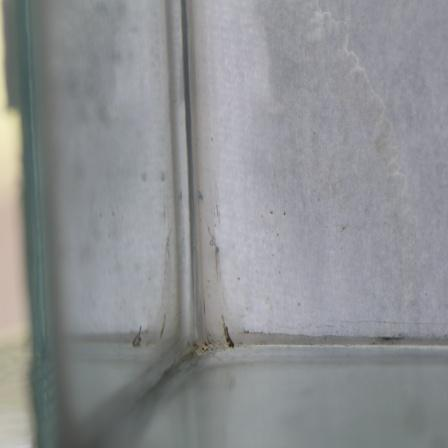Jentik-Nyamuk: (216, 309, 240, 352)
